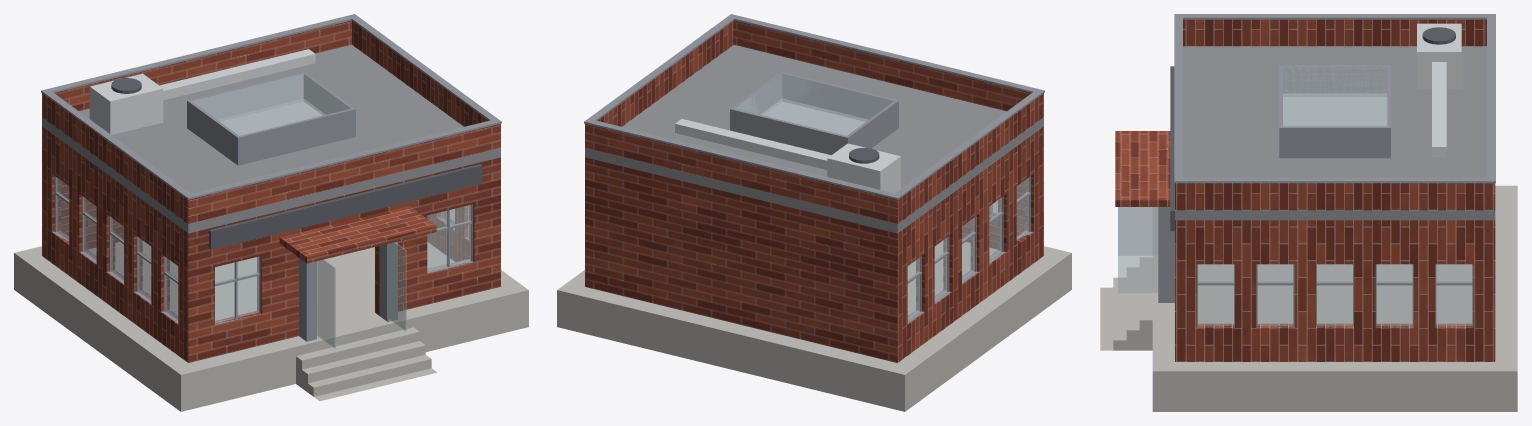
The model's file is spaces-ext-library.glb.
The picture shows the model from 3 angles, left to right: view 1: azimuth 30°, elevation 25°; view 2: azimuth 150°, elevation 25°; view 3: azimuth 270°, elevation 25°; orthographic projection. The views are drawn at different scales.
Parts seen in each view (by area): view 1: library exterior; view 2: library exterior; view 3: library exterior.
Part boxes in pixels (bbox=[...]): library exterior: bbox=[14, 14, 528, 411]; library exterior: bbox=[557, 14, 1071, 411]; library exterior: bbox=[1100, 14, 1517, 411].
Bounding box in the file's own units: 11.8 × 6.9 × 11.2.
7 materials, 1 textured.
